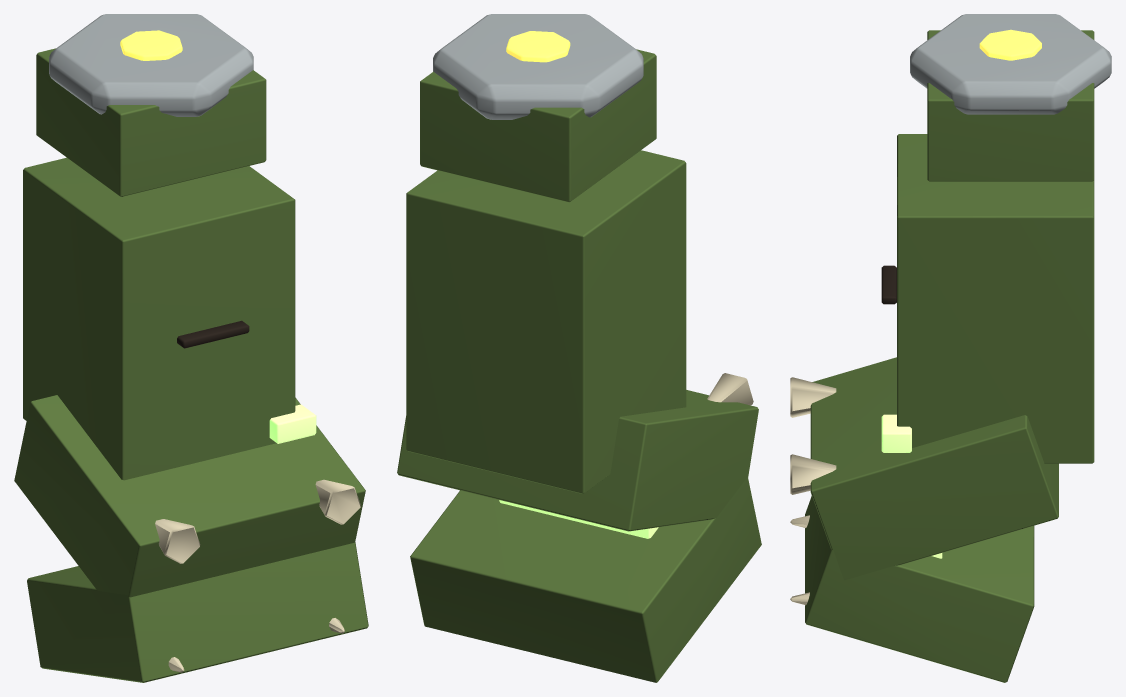
The model's file is thicket_fang_arm_gnashmaw.glb.
The picture shows the model from 3 angles, left to right: view 1: azimuth 30°, elevation 25°; view 2: azimuth 150°, elevation 25°; view 3: azimuth 270°, elevation 25°; orthographic projection. The views are drawn at different scales.
Visible parts, largest first — view 1: thicket_fang_arm_gnashmaw; view 2: thicket_fang_arm_gnashmaw; view 3: thicket_fang_arm_gnashmaw.
Part boxes in pixels (left/top/right/bottom): thicket_fang_arm_gnashmaw: left=14, top=14, right=368, bottom=682; thicket_fang_arm_gnashmaw: left=397, top=14, right=761, bottom=682; thicket_fang_arm_gnashmaw: left=790, top=14, right=1111, bottom=682.
Bounding box in the file's own units: 0.34 × 0.852 × 0.4225.
1 material, 1 textured.
